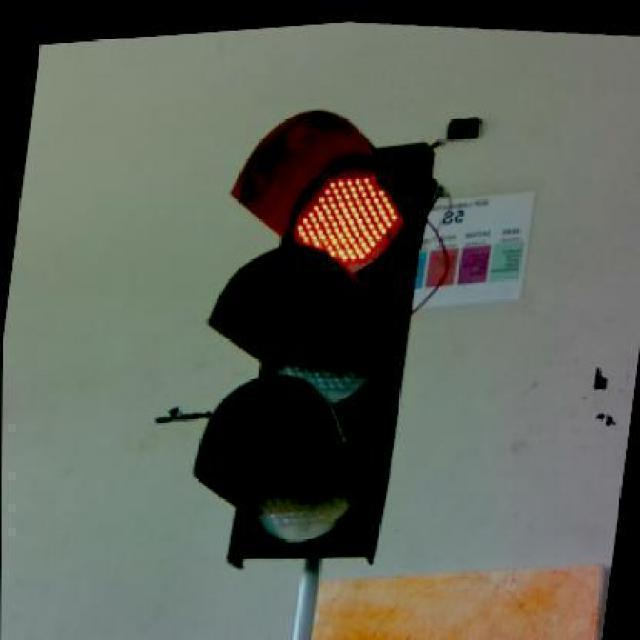red_light: (192, 109, 436, 565)
